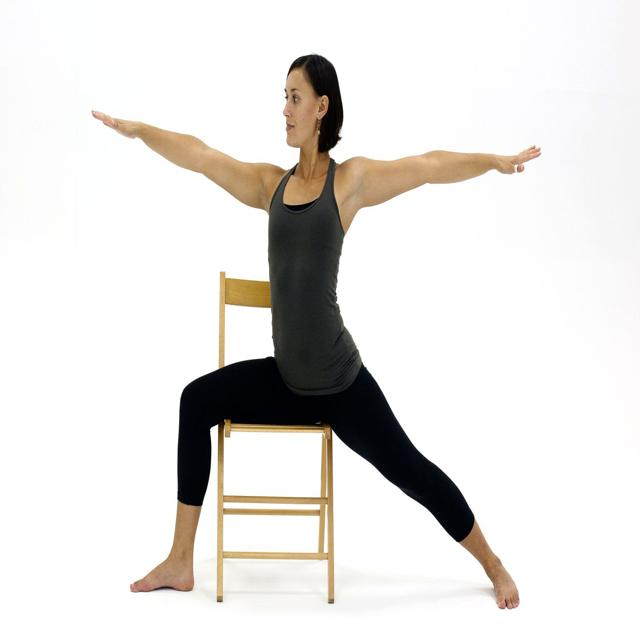Warrior_II: (85, 44, 557, 617)
